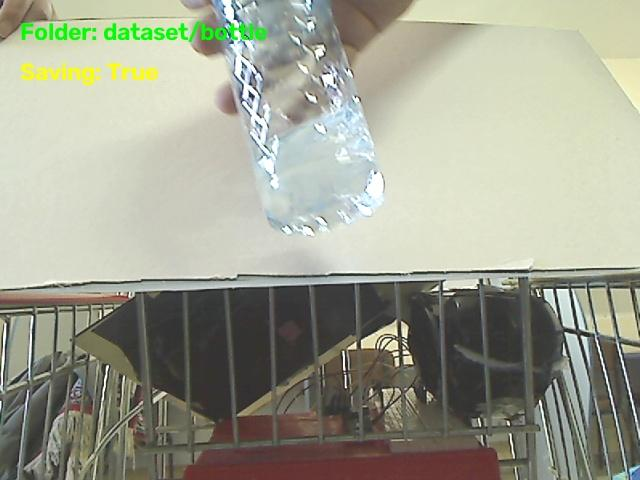Bottle: (209, 1, 383, 235)
